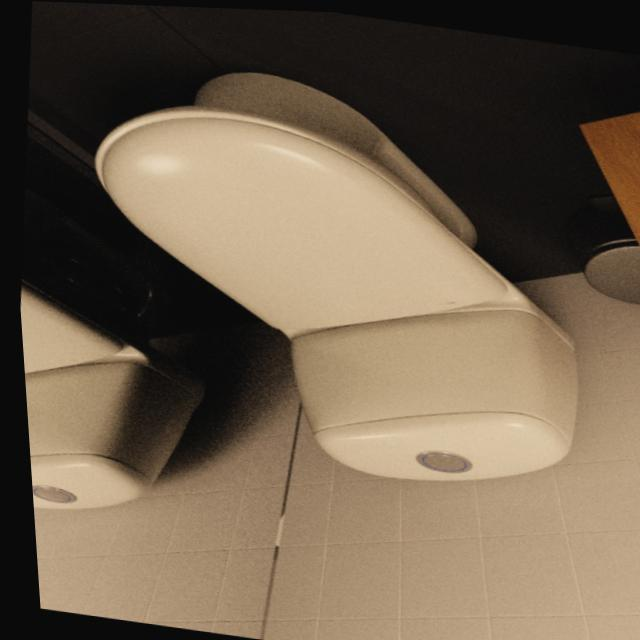toilet: (56, 48, 609, 502)
